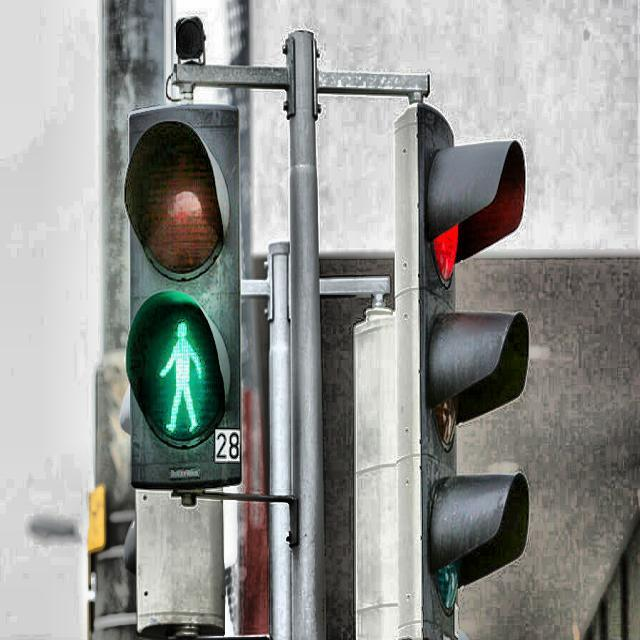green_light: (156, 316, 204, 434)
